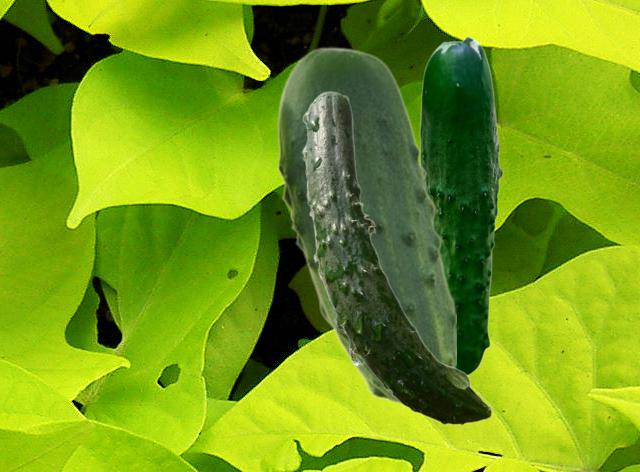cucumber: (277, 46, 455, 402), (301, 91, 491, 424), (417, 36, 502, 375)
